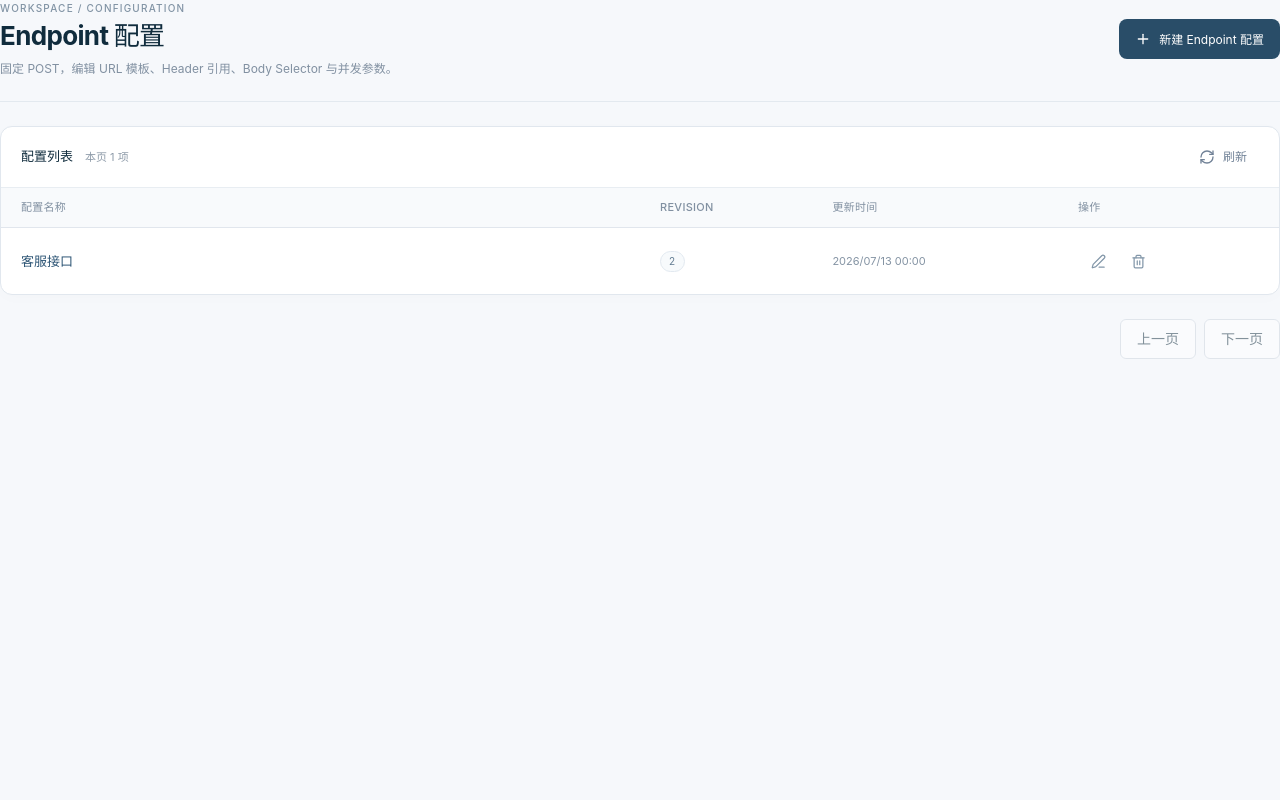
it: 配置资源页面 › 配置删除冲突可放弃删除并采用最新服务端事实
Click the button named "删除 客服接口": [1138, 261] box [1119,245,1158,277]
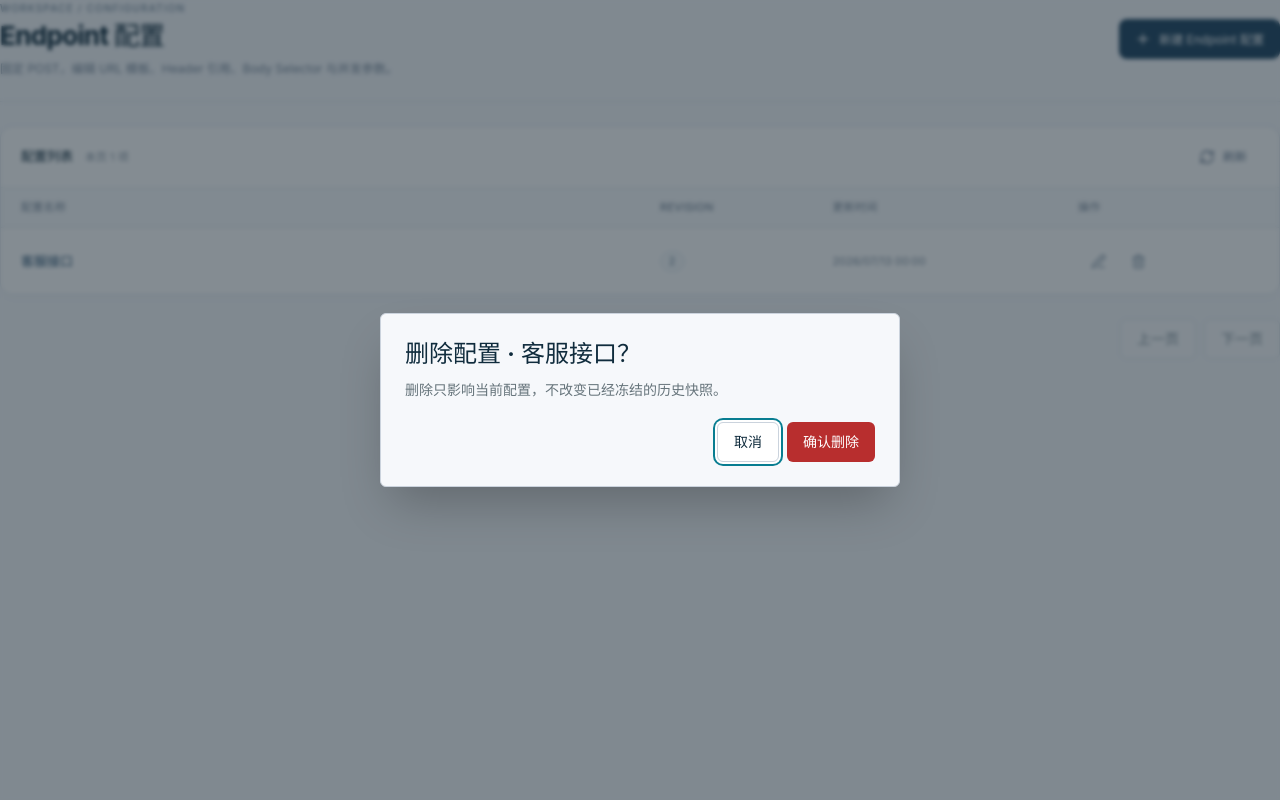
Click the button "确认删除": [831, 442] box [787,422,875,462]
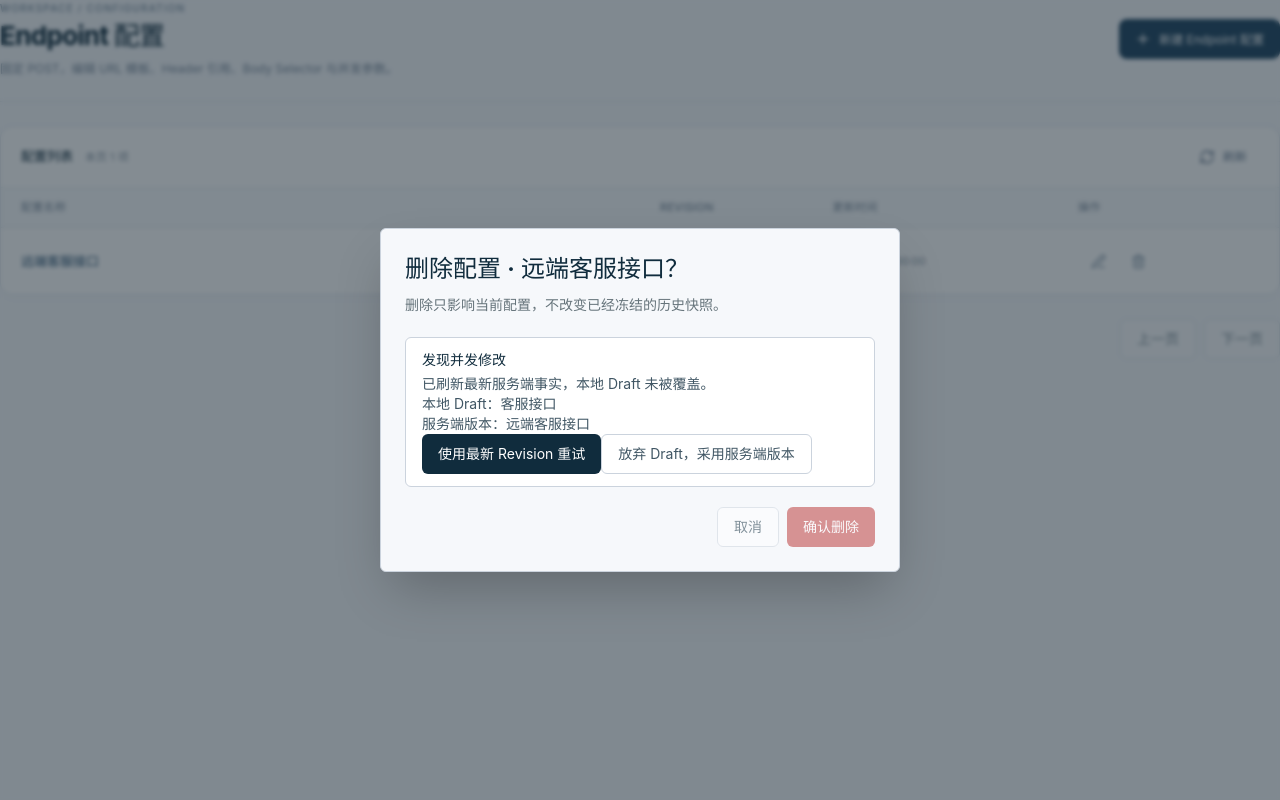
Click the button "放弃 Draft，采用服务端版本": [707, 454] box [601,434,812,474]
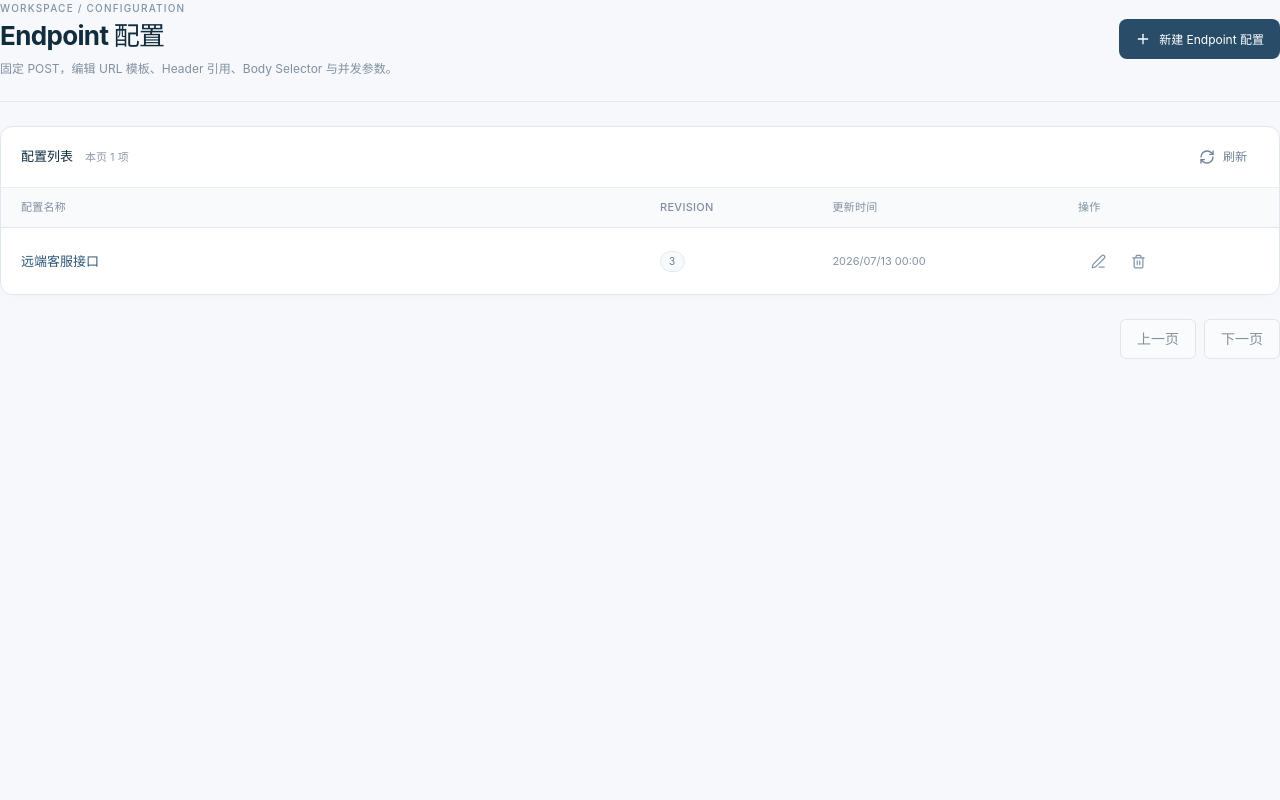
Check: the cell "3" is shown, box [640,228,812,294]
Check: the button named "编辑 远端客服接口" is shown, box [1078,245,1119,277]
Check: the dialog is gone
